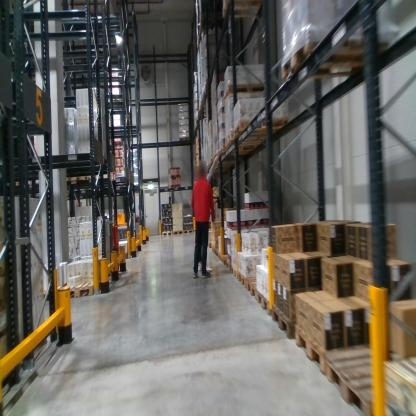pallet: (294, 308, 402, 384), (326, 332, 407, 412), (279, 40, 388, 85), (55, 263, 121, 306), (235, 111, 290, 138), (247, 267, 284, 304), (271, 303, 298, 347), (222, 79, 267, 105), (224, 129, 290, 146), (256, 286, 273, 322), (62, 169, 94, 188), (237, 272, 247, 294), (222, 251, 235, 267), (231, 261, 239, 277), (226, 258, 235, 272), (160, 228, 173, 237), (172, 227, 183, 236), (183, 227, 195, 235), (218, 250, 222, 261)
